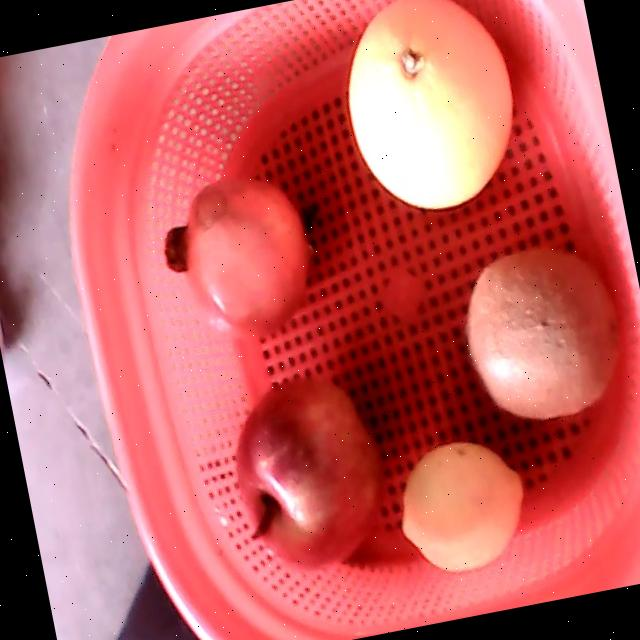apple: (234, 378, 384, 571)
kiwi: (465, 249, 621, 418)
lemon: (401, 441, 524, 571)
orange: (347, 0, 514, 208)
pomegranate: (162, 173, 313, 339)
